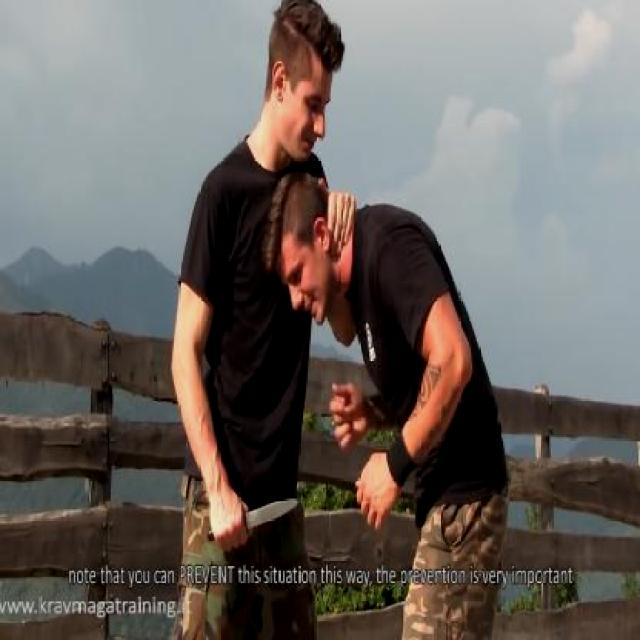knife: (203, 491, 306, 555)
